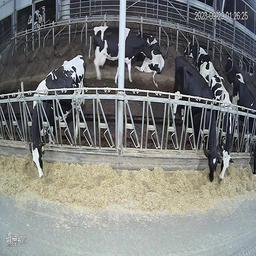cow: (27, 54, 87, 179), (172, 59, 222, 179), (195, 54, 233, 178), (96, 27, 159, 86), (232, 74, 255, 175), (184, 40, 219, 68), (26, 6, 46, 34)
